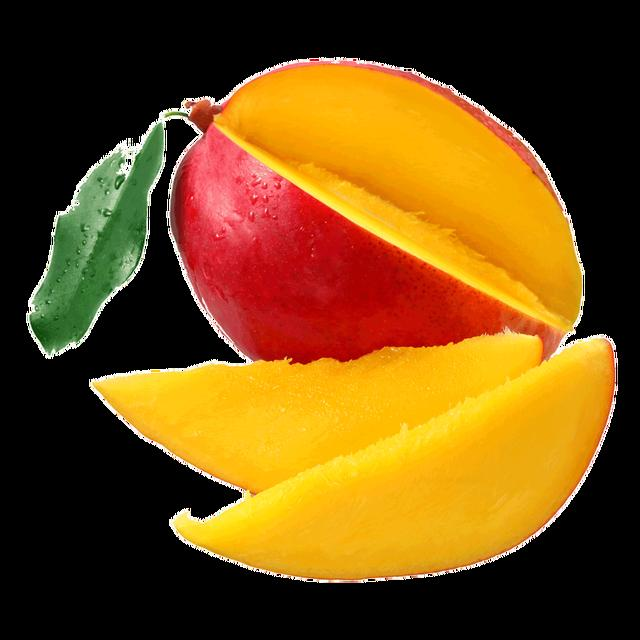mango: (160, 331, 629, 594), (79, 324, 570, 496)
